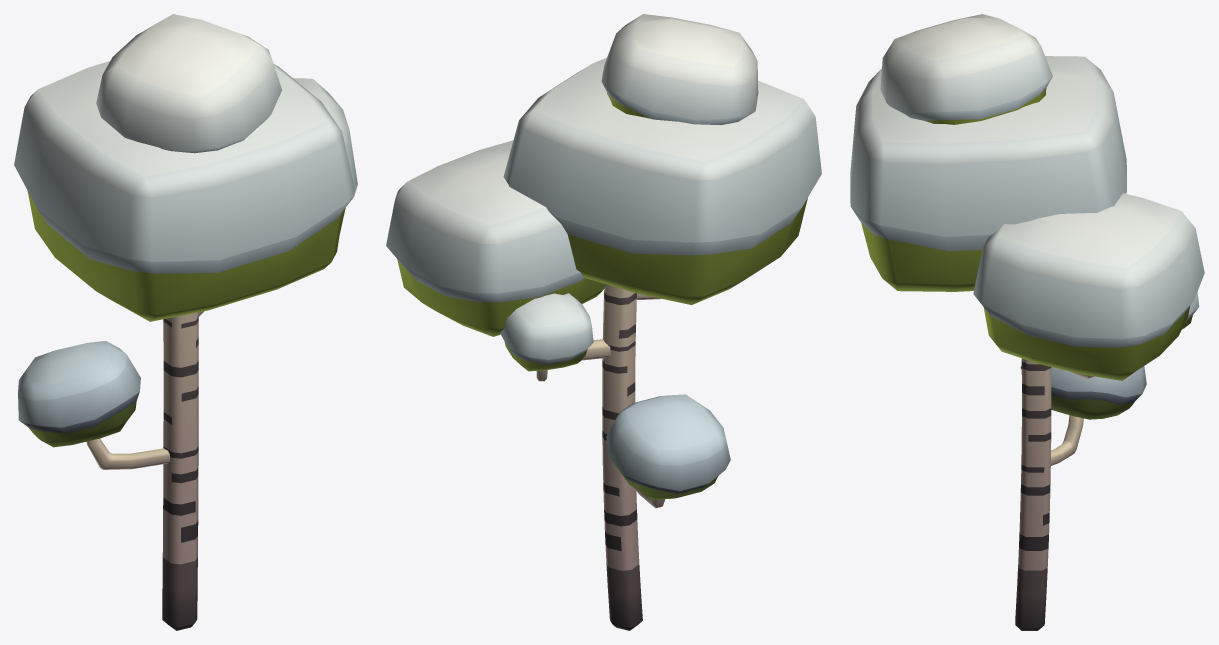
File: birch_tree_col1_03_snow.fbx
3 views of the same model, side by side, from view 1: azimuth 30°, elevation 25°; view 2: azimuth 150°, elevation 25°; view 3: azimuth 270°, elevation 25° (orthographic). The views are drawn at different scales.
Parts seen in each view (by area): view 1: birch_tree_col1_03_snow; view 2: birch_tree_col1_03_snow; view 3: birch_tree_col1_03_snow.
Part boxes in pixels (<box>): birch_tree_col1_03_snow: <box>14,14,357,630</box>; birch_tree_col1_03_snow: <box>386,14,821,630</box>; birch_tree_col1_03_snow: <box>850,14,1204,630</box>.
Size of the model in its own units: 561 by 957 by 520.
1 material, 1 textured.
